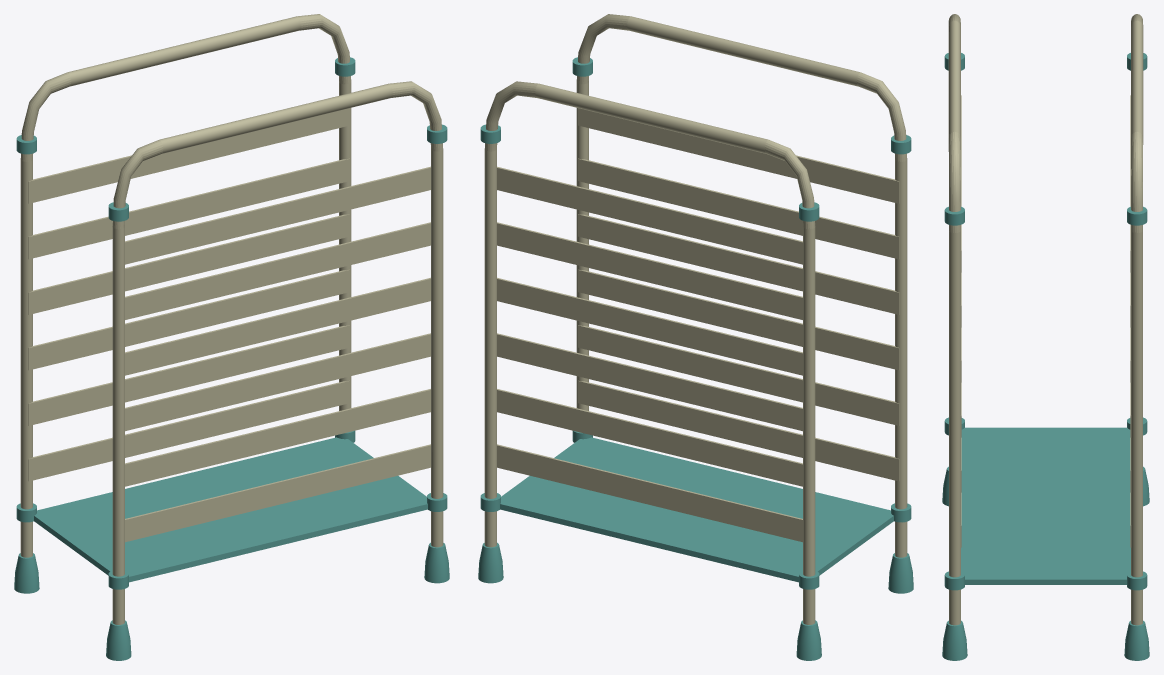
Rendered from lounge_rack.fbx.
The picture shows the model from 3 angles, left to right: view 1: azimuth 30°, elevation 25°; view 2: azimuth 150°, elevation 25°; view 3: azimuth 270°, elevation 25°; orthographic projection.
Parts seen in each view (by area): view 1: Metals, Supports; view 2: Metals, Supports; view 3: Supports, Metals.
Part boxes in pixels (x1,y1,x2,y2): Metals: (20, 14, 443, 624); Supports: (14, 57, 449, 660); Metals: (484, 14, 907, 624); Supports: (478, 57, 913, 660); Supports: (942, 53, 1149, 660); Metals: (948, 14, 1143, 625).
Size of the model in its own units: 6.42 by 9.1 by 3.42.
